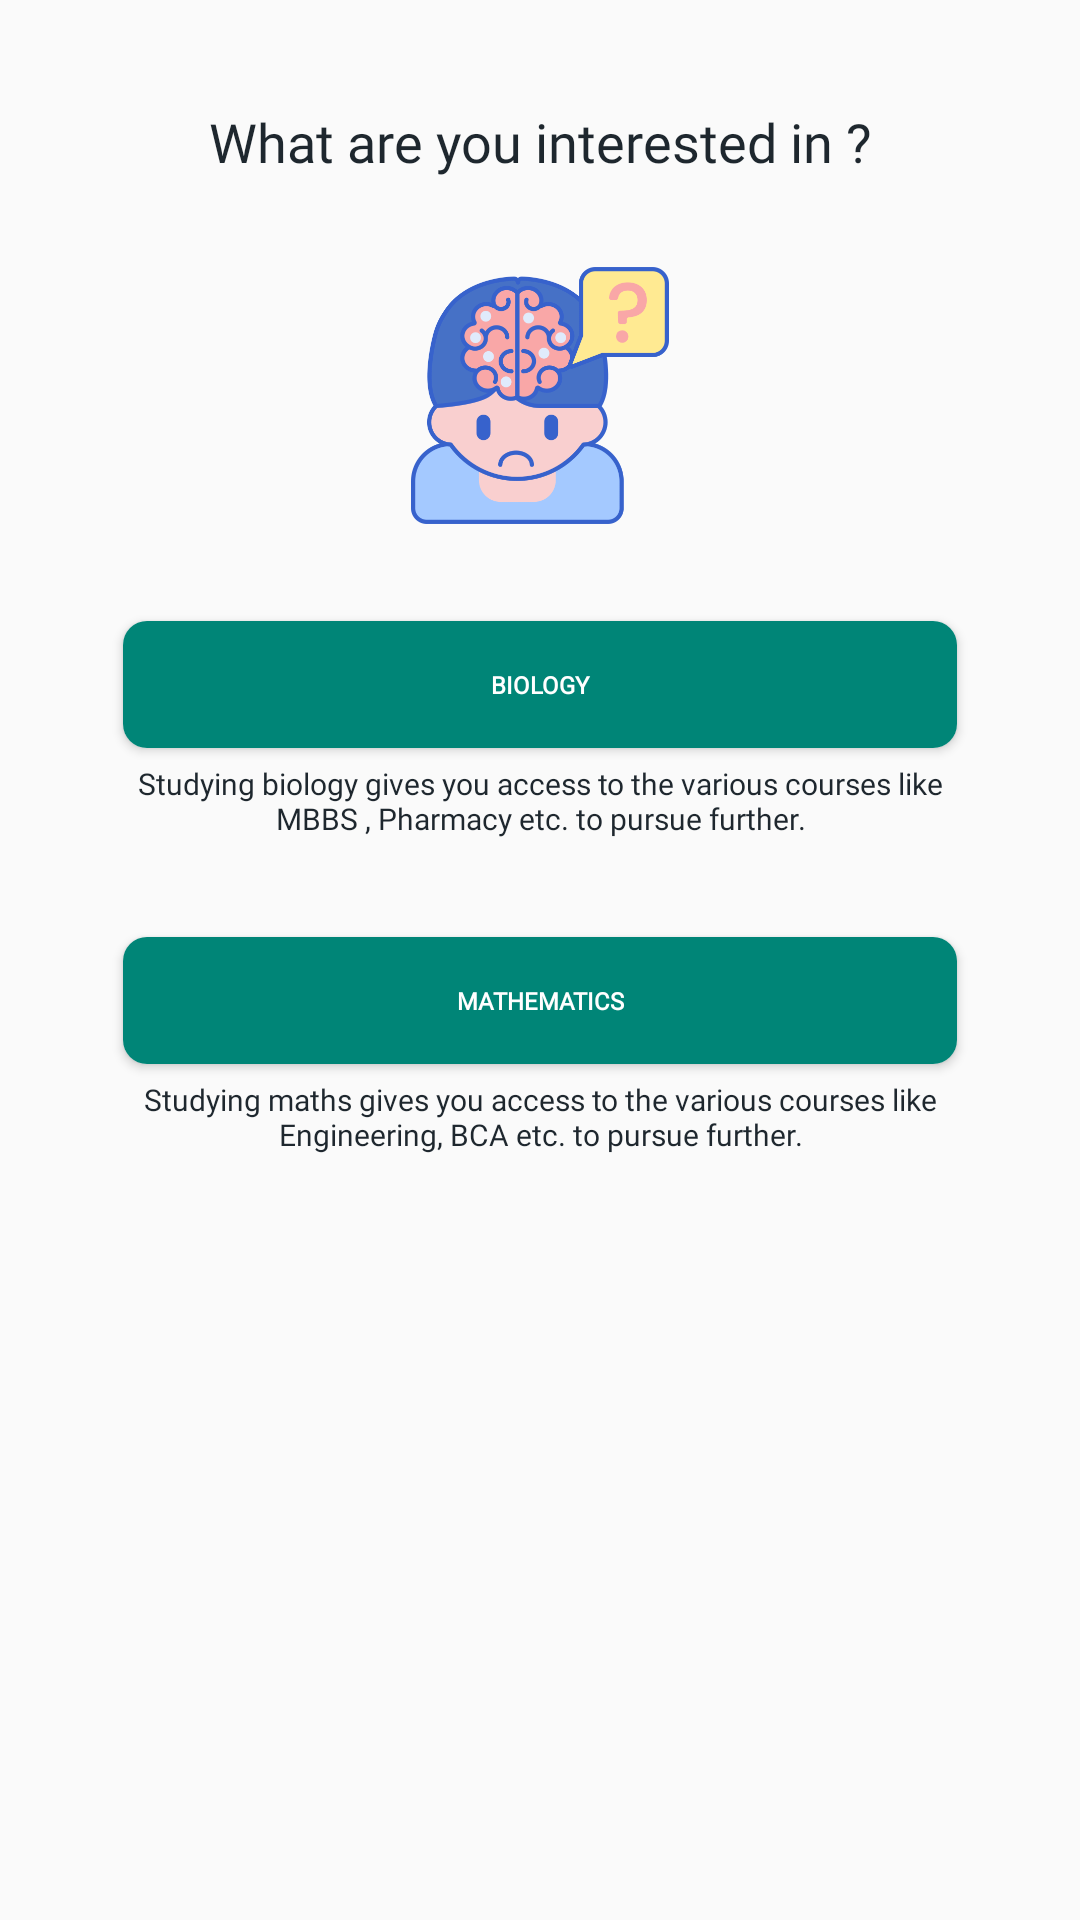

Icon click points for this 1080 x 1920 phone screenshot, format (x=x, y=y):
confused: (x=540, y=395)
